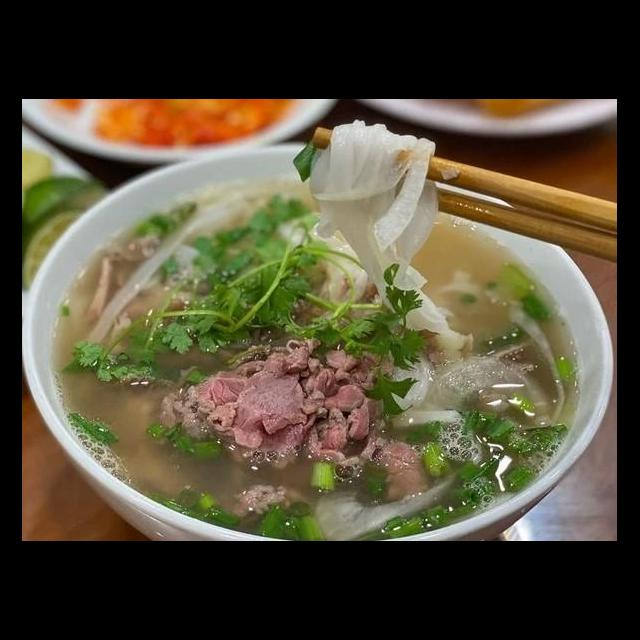banh pho: (300, 117, 480, 362)
pho bo: (39, 142, 617, 541)
thit bo: (148, 324, 402, 483), (366, 428, 434, 504)
